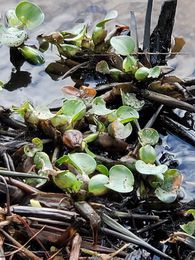water_hyacinth: (20, 90, 185, 209)
